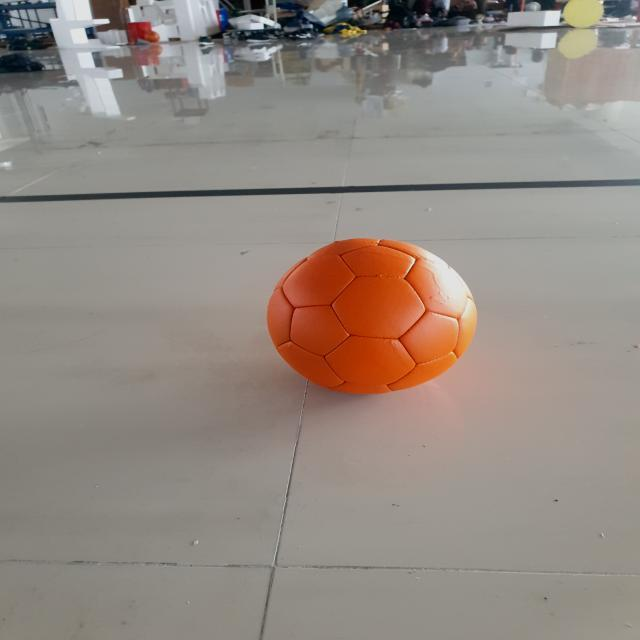bola: (256, 228, 492, 403)
